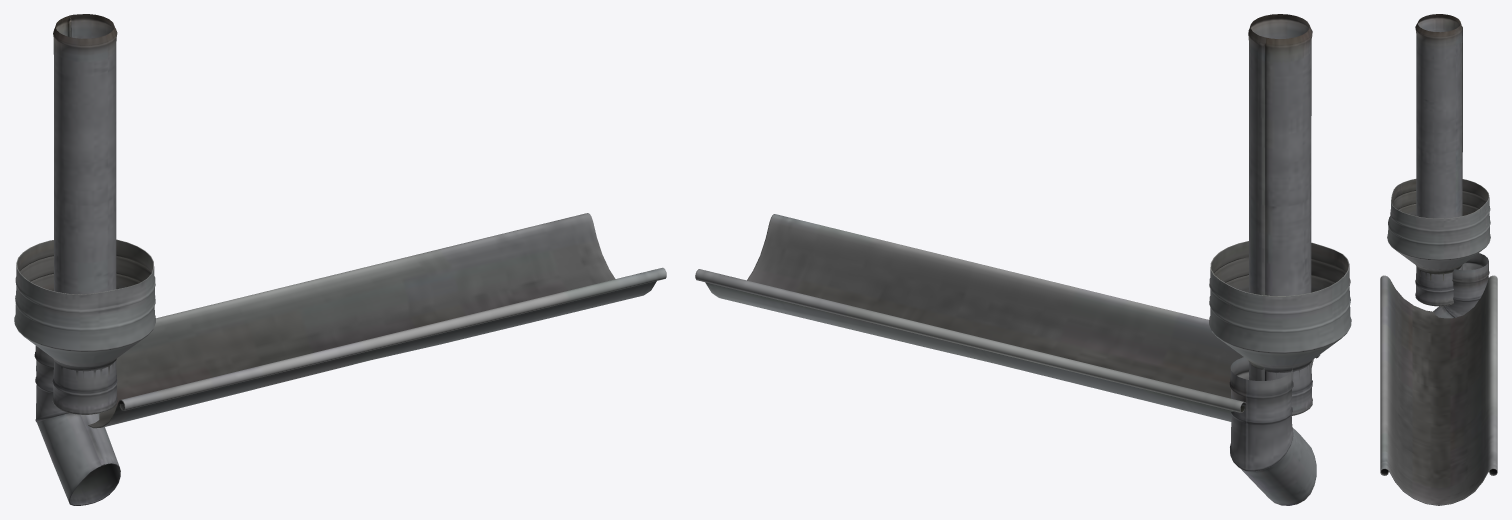
File: kit_gutter.glb
3 renders of one model, left to right at view 1: azimuth 30°, elevation 25°; view 2: azimuth 150°, elevation 25°; view 3: azimuth 270°, elevation 25°, orthographic. The views are drawn at different scales.
Visible parts, largest first — view 1: modular_metal_gutter, modular_metal_gutter_section, modular_metal_gutter_funnel, modular_metal_gutter_outlet; view 2: modular_metal_gutter, modular_metal_gutter_section, modular_metal_gutter_funnel, modular_metal_gutter_outlet; view 3: modular_metal_gutter, modular_metal_gutter_section, modular_metal_gutter_funnel, modular_metal_gutter_outlet.
Part boxes in pixels (x1,y1,x2,y2): modular_metal_gutter: [88, 213, 666, 428]; modular_metal_gutter_section: [52, 14, 117, 414]; modular_metal_gutter_funnel: [14, 239, 155, 414]; modular_metal_gutter_outlet: [34, 346, 120, 505]; modular_metal_gutter: [695, 214, 1320, 421]; modular_metal_gutter_section: [1248, 14, 1312, 415]; modular_metal_gutter_funnel: [1209, 241, 1351, 415]; modular_metal_gutter_outlet: [1229, 357, 1316, 505]; modular_metal_gutter: [1380, 275, 1497, 505]; modular_metal_gutter_section: [1415, 14, 1462, 305]; modular_metal_gutter_funnel: [1387, 179, 1490, 306]; modular_metal_gutter_outlet: [1433, 253, 1489, 318].
Size of the model in its own units: 1.68 by 1.27 by 0.3891.
Materials: 1 (1 with a texture image).
